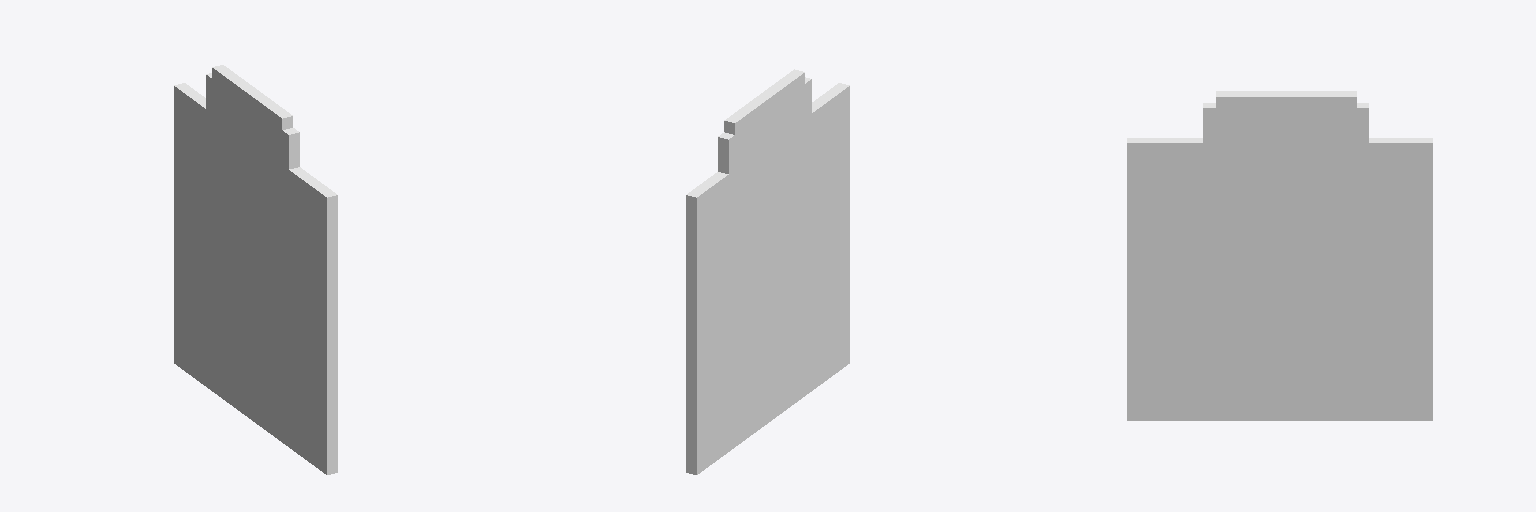
Rendered from ChaseBotStatic2D.obj.
3 views of the same model, side by side, from view 1: azimuth 30°, elevation 25°; view 2: azimuth 150°, elevation 25°; view 3: azimuth 270°, elevation 25° (orthographic).
Visible parts, largest first — view 1: object 1; view 2: object 1; view 3: object 1.
Boxes of the visible parts, box(x1,y1,x2,y2) form: object 1: box(174, 65, 337, 474); object 1: box(686, 69, 849, 474); object 1: box(1127, 91, 1432, 420).
Size of the model in its own units: 0.1 by 2.8 by 2.4.